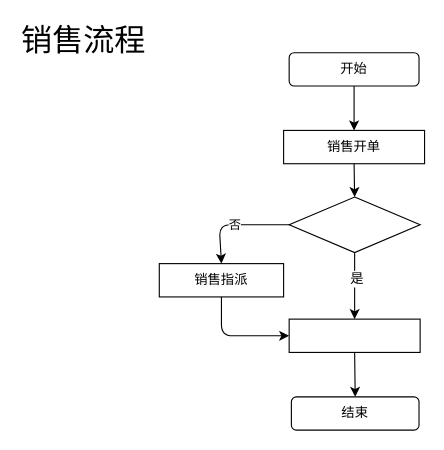
This 444x450 diagram has some shape labels left out. The centre of each missing label's shape, as x and y in pixels:
"是否现场销售" belongs at pixel 354 224.
"销售收款" belongs at pixel 354 335.
